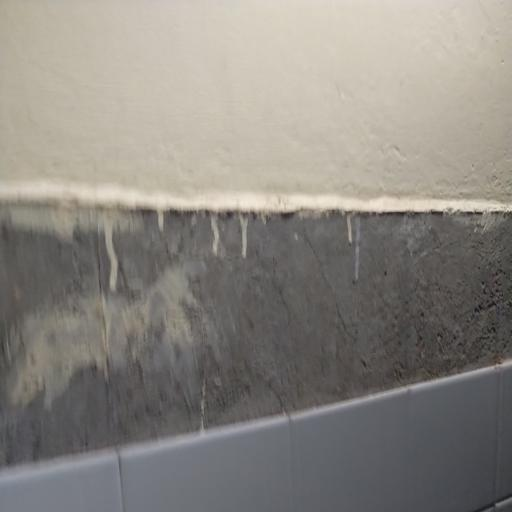spalling: (4, 170, 512, 464)
